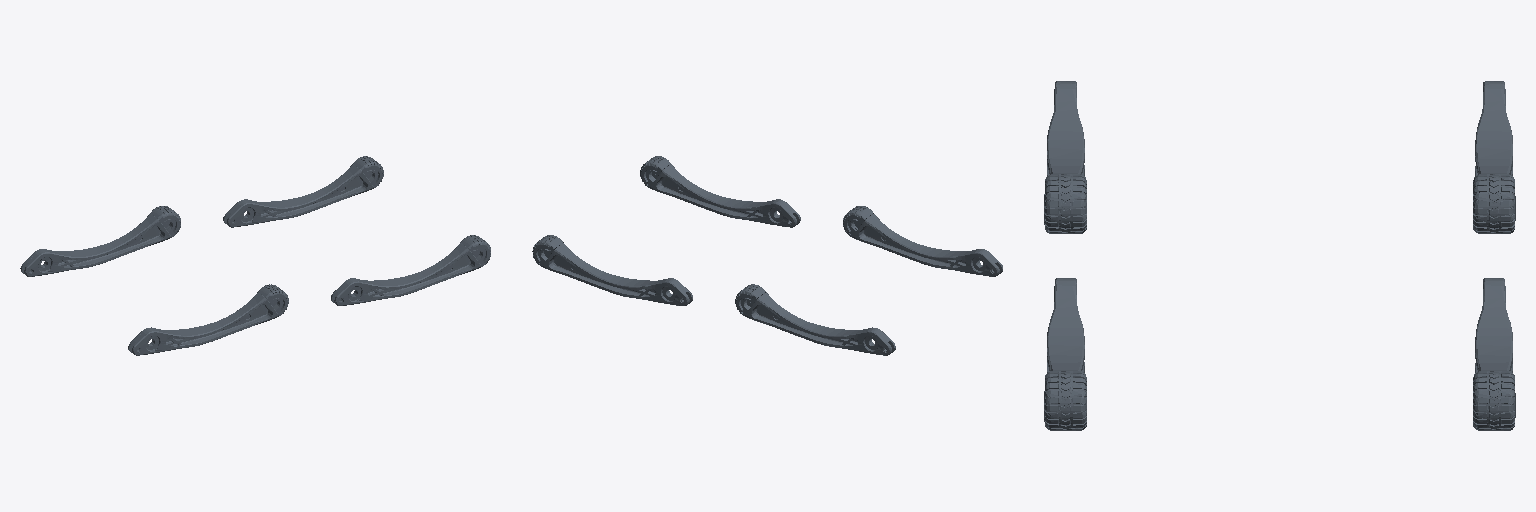
URDF robot description (MiniLiteV3):
<?xml version="1.0" encoding="utf-8"?> 
<robot name="MiniLiteV3"> 
  <link name="TORSO"> 
    <visual> 
      <origin rpy="0 0 0" xyz="0.0 0.0 0.0"/> 
      <geometry> 
      <mesh filename="../meshes/Lite3.dae" /> 
      </geometry> 
    </visual> 
    <collision> 
      <geometry> 
        <box size="0.35 0.184 0.08"/> 
      </geometry> 
    </collision> 
  </link> 
 
  <link name="INERTIA"> 
    <inertial> 
      <origin xyz="0.004098 -0.000663 -0.002069" /> 
      <mass value="4.130" /> 
      <inertia ixx="0.016982120" ixy="2.1294E-05" ixz="6.0763E-05" iyy="0.030466501" iyz="1.7968E-05" izz="0.042609956" /> 
    </inertial> 
  </link> 
 
  <joint name="Torso2Inertia" type="fixed"> 
    <parent link="TORSO" /> 
    <child link="INERTIA" /> 
  </joint> 

  <link name="FL_HIP"> 
    <inertial> 
      <origin xyz="-0.0047 -0.0091 -0.0018" /> 
      <mass value="0.428" /> 
      <inertia ixx="0.00014538" ixy="8.1579E-07" ixz="-1.264E-05" iyy="0.00024024" iyz="1.3443E-06" izz="0.00013038" /> 
    </inertial> 
    <visual> 
      <origin rpy="0 0 0" xyz="0.0 0.0 0.0"/> 
      <geometry> 
        <mesh filename="../meshes/FL_HIP.dae" /> 
      </geometry> 
    </visual> 
  </link> 
 
  <joint name="FL_HipX" type="revolute"> 
    <origin xyz="0.1745 0.062 0" /> 
    <parent link="TORSO" /> 
    <child link="FL_HIP" /> 
    <axis xyz="-1 0 0" /> 
    <limit lower="-0.42" upper="0.42" effort="24" velocity="26" /> 
  </joint> 
 
  <link name="FL_THIGH"> 
    <inertial> 
      <origin xyz="-0.00523 -0.0216 -0.0273" /> 
      <mass value="0.61" /> 
      <inertia ixx="0.001" ixy="-2.5E-06" ixz="-1.12E-04" iyy="0.00116" iyz="3.75E-07" izz="2.68E-04" /> 
    </inertial> 
    <visual> 
      <origin rpy="0 0 0" xyz="0.0 0.0 0.0"/> 
      <geometry> 
        <mesh filename="../meshes/L_THIGH.dae" /> 
      </geometry> 
    </visual> 
    <collision> 
      <origin xyz="0 0 -0.08"/> 
      <geometry> 
        <box size="0.02 0.02 0.16"/> 
      </geometry> 
    </collision> 
  </link> 
 
  <joint name="FL_HipY" type="revolute"> 
    <origin xyz="0 0.0985 0" /> 
    <parent link="FL_HIP" /> 
    <child link="FL_THIGH" /> 
    <axis xyz="0 -1 0" /> 
    <limit lower="-2.67" upper="0.314" effort="24" velocity="26" /> 
  </joint> 
 
  <link name="FL_SHANK"> 
    <inertial> 
      <origin xyz="0.00585 -8.732E-07 -0.12" /> 
      <mass value="0.115" /> 
      <inertia ixx="6.68E-04" ixy="-1.24E-08" ixz="6.91E-06" iyy="6.86E-04" iyz="5.65E-09" izz="3.155E-05" /> 
    </inertial> 
    <visual> 
      <geometry> 
        <mesh filename="../meshes/SHANK.dae" /> 
      </geometry> 
    </visual> 
    <collision> 
      <origin xyz="0 0 -0.09"/> 
      <geometry> 
        <box size="0.02 0.02 0.18"/> 
      </geometry> 
    </collision> 
  </link> 
 
  <joint name="FL_Knee" type="revolute"> 
    <origin xyz="0 0 -0.20" /> 
    <parent link="FL_THIGH" /> 
    <child link="FL_SHANK" /> 
    <axis xyz="0 -1 0" /> 
    <limit lower="0.6" upper="2.72" effort="36" velocity="17" /> 
  </joint> 
 
  <link name="FL_FOOT"> 
    <inertial> 
      <mass value="1E-12" /> 
      <inertia ixx="1E-12" ixy="0" ixz="0" iyy="1E-12" iyz="0" izz="1E-12" /> 
    </inertial> 
    <collision> 
      <geometry> 
        <sphere radius="0.01"/> 
      </geometry> 
    </collision> 
  </link> 
 
  <joint name="FL_Ankle" type="fixed"> 
    <origin xyz="0 0 -0.23"/> 
    <parent link="FL_SHANK" /> 
    <child link="FL_FOOT" /> 
  </joint> 
 
  <link name="FR_HIP"> 
    <inertial> 
      <origin xyz="-0.0047 0.0091 -0.0018" /> 
      <mass value="0.428" /> 
      <inertia ixx="0.00014538" ixy="-8.1551E-07" ixz="-1.2639E-05" iyy="0.00024024" iyz="-1.3441E-06" izz="0.00013038" /> 
    </inertial> 
    <visual> 
      <origin rpy="0 0 0" xyz="0.0 0.0 0.0"/> 
      <geometry> 
        <mesh filename="../meshes/FR_HIP.dae" /> 
      </geometry> 
    </visual> 
  </link> 
 
  <joint name="FR_HipX" type="revolute"> 
    <origin xyz="0.1745 -0.062 0" /> 
    <parent link="TORSO" /> 
    <child link="FR_HIP" /> 
    <axis xyz="-1 0 0" /> 
    <limit lower="-0.42" upper="0.42" effort="24" velocity="26" /> 
  </joint> 
 
  <link name="FR_THIGH"> 
    <inertial> 
      <origin xyz="-0.00523 0.0216 -0.0273" /> 
      <mass value="0.61" /> 
      <inertia ixx="0.001" ixy="2.5E-06" ixz="-1.12E-04" iyy="0.00116" iyz="-3.75E-07" izz="2.68E-04" /> 
    </inertial> 
    <visual> 
      <origin rpy="0 0 0" xyz="0.0 0.0 0.0"/> 
      <geometry> 
        <mesh filename="../meshes/R_THIGH.dae" /> 
      </geometry> 
    </visual> 
    <collision> 
      <origin xyz="0 0 -0.08"/> 
      <geometry> 
        <box size="0.02 0.02 0.16"/> 
      </geometry> 
    </collision> 
  </link> 
 
  <joint name="FR_HipY" type="revolute"> 
    <origin xyz="0 -0.0985 0" /> 
    <parent link="FR_HIP" /> 
    <child link="FR_THIGH" /> 
    <axis xyz="0 -1 0" /> 
    <limit lower="-2.67" upper="0.314" effort="24" velocity="26" /> 
  </joint> 
 
  <link name="FR_SHANK"> 
    <inertial> 
      <origin xyz="0.00585 -8.732E-07 -0.12" /> 
      <mass value="0.115" /> 
      <inertia ixx="6.68E-04" ixy="-1.24E-08" ixz="6.91E-06" iyy="6.86E-04" iyz="5.65E-09" izz="3.155E-05" /> 
    </inertial> 
    <visual> 
      <geometry> 
        <mesh filename="../meshes/SHANK.dae" /> 
      </geometry> 
    </visual> 
    <collision> 
      <origin xyz="0 0 -0.09"/> 
      <geometry> 
        <box size="0.02 0.02 0.18"/> 
      </geometry> 
    </collision> 
  </link> 
 
  <joint name="FR_Knee" type="revolute"> 
    <origin xyz="0 0 -0.20" /> 
    <parent link="FR_THIGH" /> 
    <child link="FR_SHANK" /> 
    <axis xyz="0 -1 0" /> 
    <limit lower="0.6" upper="2.72" effort="36" velocity="17" /> 
  </joint> 
 
  <link name="FR_FOOT"> 
    <inertial> 
      <mass value="1E-12" /> 
      <inertia ixx="1E-12" ixy="0" ixz="0" iyy="1E-12" iyz="0" izz="1E-12" /> 
    </inertial> 
    <collision> 
      <geometry> 
        <sphere radius="0.01"/> 
      </geometry> 
    </collision> 
  </link> 
 
  <joint name="FR_Ankle" type="fixed"> 
    <origin xyz="0 0 -0.23"/> 
    <parent link="FR_SHANK" /> 
    <child link="FR_FOOT" /> 
  </joint> 
 
  <link name="HL_HIP"> 
    <inertial> 
      <origin xyz="0.0047 -0.0091 -0.0018" /> 
      <mass value="0.428" /> 
      <inertia ixx="0.00014538" ixy="-8.1585E-07" ixz="1.2639E-05" iyy="0.00024024" iyz="1.3444E-06" izz="0.00013038" /> 
    </inertial> 
    <visual> 
      <origin rpy="0 0 0" xyz="0.0 0.0 0.0"/> 
      <geometry> 
        <mesh filename="../meshes/HL_HIP.dae" /> 
      </geometry> 
    </visual> 
  </link> 
 
  <joint name="HL_HipX" type="revolute"> 
    <origin xyz="-0.1745 0.062 0" /> 
    <parent link="TORSO" /> 
    <child link="HL_HIP" /> 
    <axis xyz="-1 0 0" /> 
    <limit lower="-0.42" upper="0.42" effort="24" velocity="26" /> 
  </joint> 
 
  <link name="HL_THIGH"> 
    <inertial> 
      <origin xyz="-0.00523 -0.0216 -0.0273" /> 
      <mass value="0.61" /> 
      <inertia ixx="0.001" ixy="-2.5E-06" ixz="-1.12E-04" iyy="0.00116" iyz="3.75E-07" izz="2.68E-04" /> 
    </inertial> 
    <visual> 
      <origin rpy="0 0 0" xyz="0.0 0.0 0.0"/> 
      <geometry> 
        <mesh filename="../meshes/L_THIGH.dae" /> 
      </geometry> 
    </visual> 
    <collision> 
      <origin xyz="0 0 -0.08"/> 
      <geometry> 
        <box size="0.02 0.02 0.16"/> 
      </geometry> 
    </collision> 
  </link> 
 
  <joint name="HL_HipY" type="revolute"> 
    <origin xyz="0 0.0985 0" /> 
    <parent link="HL_HIP" /> 
    <child link="HL_THIGH" /> 
    <axis xyz="0 -1 0" /> 
    <limit lower="-2.67" upper="0.314" effort="24" velocity="26" /> 
  </joint> 
 
  <link name="HL_SHANK"> 
    <inertial> 
      <origin xyz="0.00585 -8.732E-07 -0.12" /> 
      <mass value="0.115" /> 
      <inertia ixx="6.68E-04" ixy="-1.24E-08" ixz="6.91E-06" iyy="6.86E-04" iyz="5.65E-09" izz="3.155E-05" /> 
    </inertial> 
    <visual> 
      <geometry> 
        <mesh filename="../meshes/SHANK.dae" /> 
      </geometry> 
    </visual> 
    <collision> 
      <origin xyz="0 0 -0.09"/> 
      <geometry> 
        <box size="0.02 0.02 0.18"/> 
      </geometry> 
    </collision> 
  </link> 
 
  <joint name="HL_Knee" type="revolute"> 
    <origin xyz="0 0 -0.20" /> 
    <parent link="HL_THIGH" /> 
    <child link="HL_SHANK" /> 
    <axis xyz="0 -1 0" /> 
    <limit lower="0.6" upper="2.72" effort="36" velocity="17" /> 
  </joint> 
 
  <link name="HL_FOOT"> 
    <inertial> 
      <mass value="1E-12" /> 
      <inertia ixx="1E-12" ixy="0" ixz="0" iyy="1E-12" iyz="0" izz="1E-12" /> 
    </inertial> 
    <collision> 
      <geometry> 
        <sphere radius="0.01"/> 
      </geometry> 
    </collision> 
  </link> 
 
  <joint name="HL_Ankle" type="fixed"> 
    <origin xyz="0 0 -0.23"/> 
    <parent link="HL_SHANK" /> 
    <child link="HL_FOOT" /> 
  </joint> 
 
  <link name="HR_HIP"> 
    <inertial> 
      <origin xyz="0.0047 0.0091 -0.0018" /> 
      <mass value="0.428" /> 
      <inertia ixx="0.00014538" ixy="8.1545E-07" ixz="1.2639E-05" iyy="0.00024024" iyz="-1.344E-06" izz="0.00013038" /> 
    </inertial> 
    <visual> 
      <origin rpy="0 0 0" xyz="0.0 0.0 0.0"/> 
      <geometry> 
        <mesh filename="../meshes/HR_HIP.dae" /> 
      </geometry> 
    </visual> 
  </link> 
 
  <joint name="HR_HipX" type="revolute"> 
    <origin xyz="-0.1745 -0.062 0" /> 
    <parent link="TORSO" /> 
    <child link="HR_HIP" /> 
    <axis xyz="-1 0 0" /> 
    <limit lower="-0.42" upper="0.42" effort="24" velocity="26" /> 
  </joint> 
 
  <link name="HR_THIGH"> 
    <inertial> 
      <origin xyz="-0.00523 0.0216 -0.0273" /> 
      <mass value="0.61" /> 
      <inertia ixx="0.001" ixy="2.5E-06" ixz="-1.12E-04" iyy="0.00116" iyz="-3.75E-07" izz="2.68E-04" /> 
    </inertial> 
    <visual> 
      <origin rpy="0 0 0" xyz="0.0 0.0 0.0"/> 
      <geometry> 
        <mesh filename="../meshes/R_THIGH.dae" /> 
      </geometry> 
    </visual> 
    <collision> 
      <origin xyz="0 0 -0.08"/> 
      <geometry> 
        <box size="0.02 0.02 0.16"/> 
      </geometry> 
    </collision> 
  </link> 
 
  <joint name="HR_HipY" type="revolute"> 
    <origin xyz="0 -0.0985 0" /> 
    <parent link="HR_HIP" /> 
    <child link="HR_THIGH" /> 
    <axis xyz="0 -1 0" /> 
    <limit lower="-2.67" upper="0.314" effort="24" velocity="26" /> 
  </joint> 
 
  <link name="HR_SHANK"> 
    <inertial> 
      <origin xyz="0.00585 -8.732E-07 -0.12" /> 
      <mass value="0.115" /> 
      <inertia ixx="6.68E-04" ixy="-1.24E-08" ixz="6.91E-06" iyy="6.86E-04" iyz="5.65E-09" izz="3.155E-05" /> 
    </inertial> 
    <visual> 
      <geometry> 
        <mesh filename="../meshes/SHANK.dae" /> 
      </geometry> 
    </visual> 
    <collision> 
      <origin xyz="0 0 -0.09"/> 
      <geometry> 
        <box size="0.02 0.02 0.18"/> 
      </geometry> 
    </collision> 
  </link> 
 
  <joint name="HR_Knee" type="revolute"> 
    <origin xyz="0 0 -0.20" /> 
    <parent link="HR_THIGH" /> 
    <child link="HR_SHANK" /> 
    <axis xyz="0 -1 0" /> 
    <limit lower="0.6" upper="2.72" effort="36" velocity="17" /> 
  </joint> 
 
  <link name="HR_FOOT"> 
    <inertial> 
      <mass value="1E-12" /> 
      <inertia ixx="1E-12" ixy="0" ixz="0" iyy="1E-12" iyz="0" izz="1E-12" /> 
    </inertial> 
    <collision> 
      <geometry> 
        <sphere radius="0.01"/> 
      </geometry> 
    </collision> 
  </link> 
 
  <joint name="HR_Ankle" type="fixed"> 
    <origin xyz="0 0 -0.23"/> 
    <parent link="HR_SHANK" /> 
    <child link="HR_FOOT" /> 
  </joint> 
 
</robot> 

--- Render facts (derived) ---
The picture shows the robot from 3 angles, left to right: view 1: azimuth 30°, elevation 25°; view 2: azimuth 150°, elevation 25°; view 3: azimuth 270°, elevation 25°; orthographic projection.
Model MiniLiteV3 with 18 links and 17 joints (12 revolute, 5 fixed), rooted at TORSO, posed joints at zero except 4 at the middle of their limits (FL_Knee = 1.66, FR_Knee = 1.66, HL_Knee = 1.66, HR_Knee = 1.66).
Links seen in each view (by area): view 1: FL_SHANK, HL_SHANK, HR_SHANK, FR_SHANK; view 2: FR_SHANK, HR_SHANK, FL_SHANK, HL_SHANK; view 3: HR_SHANK, FR_SHANK, FL_SHANK, HL_SHANK.
Link boxes in pixels (x1=…): FL_SHANK: x1=223, y1=156, x2=383, y2=227; HL_SHANK: x1=20, y1=206, x2=180, y2=276; HR_SHANK: x1=128, y1=284, x2=288, y2=355; FR_SHANK: x1=331, y1=235, x2=490, y2=305; FR_SHANK: x1=640, y1=156, x2=800, y2=227; HR_SHANK: x1=843, y1=206, x2=1002, y2=276; FL_SHANK: x1=532, y1=235, x2=692, y2=305; HL_SHANK: x1=735, y1=284, x2=895, y2=355; HR_SHANK: x1=1044, y1=81, x2=1086, y2=233; FR_SHANK: x1=1044, y1=278, x2=1086, y2=430; FL_SHANK: x1=1473, y1=278, x2=1515, y2=430; HL_SHANK: x1=1473, y1=81, x2=1515, y2=233.
Bounding box of the posed robot: 0.6151 × 0.353 × 0.06 m (x, y, z).
Meshes: 8 distinct files referenced, 4 mesh visuals loaded (1 Collada DAE); not drawn: 9 (reference not matched to a file when rendering).